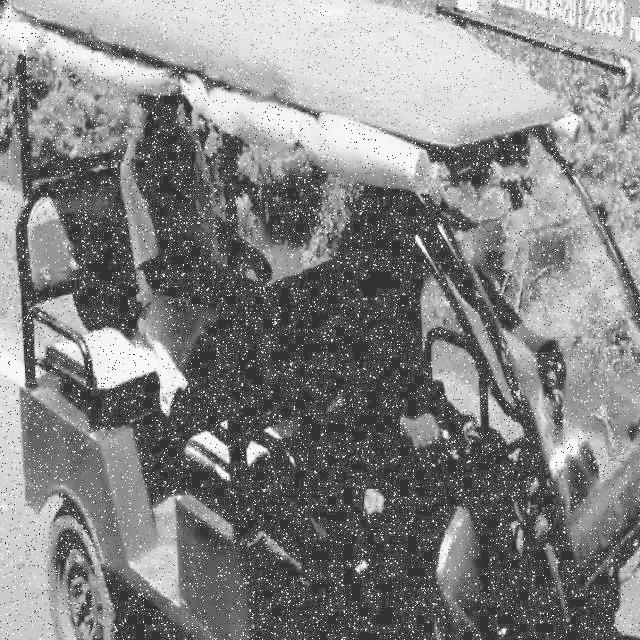Toto: (12, 0, 640, 640)
